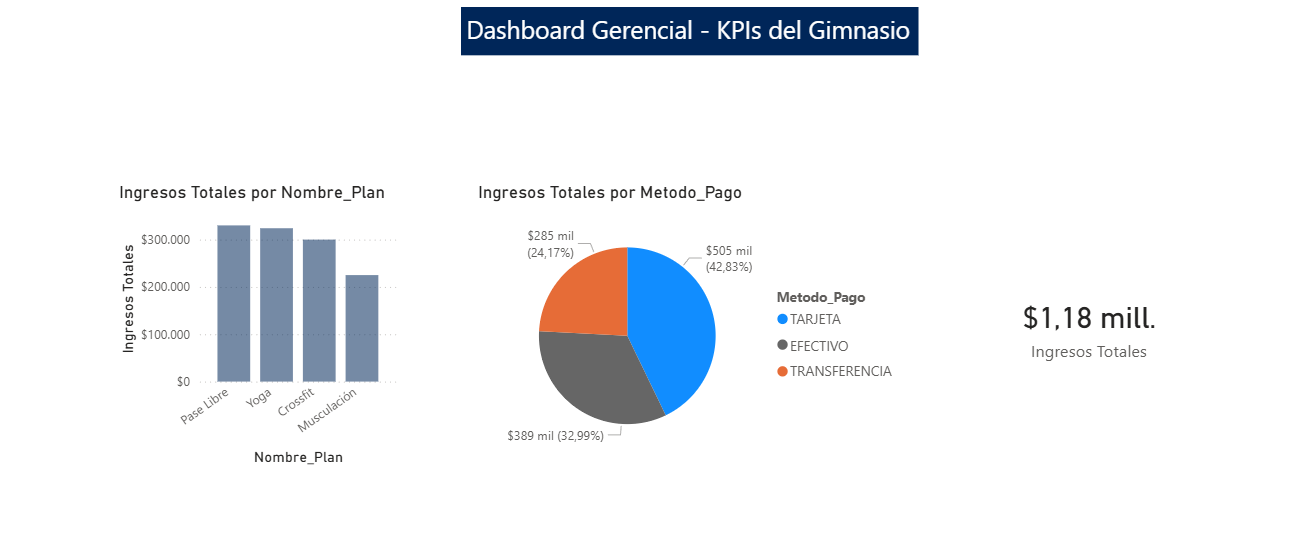

This screenshot's page, from the dashboard's own definition file:
{"tool":"powerbi","page":{"name":"Página 1","canvas":[1280,720],"ordinal":0},"visuals":[{"type":"clusteredColumnChart","fields":{"Category":["Planes.Nombre_Plan"],"Y":["Pagos.Ingresos Totales"]},"box":[129.4,186.7,280.1,280.1],"z":0},{"type":"card","fields":{"Values":["Pagos.Ingresos Totales"]},"box":[937.6,186.7,280.1,280.1],"z":1000},{"type":"pieChart","fields":{"Y":["Pagos.Ingresos Totales"],"Category":["Pagos.Metodo_Pago"]},"box":[478.5,186.7,422.1,280.1],"z":2000},{"type":"textbox","box":[466.9,16.5,445.5,46.7],"z":3000}]}

Visuals, with their boxes on the page's 1280x720 design canvas (x1, y1, x2, y2). These are canvas units, not pixel positions in the 1294x540 screenshot, which may show the page scaled, cropped or inside an application window:
clusteredColumnChart - Planes.Nombre_Plan x Pagos.Ingresos Totales: (129, 187, 410, 467)
card - Pagos.Ingresos Totales: (938, 187, 1218, 467)
pieChart - Pagos.Ingresos Totales x Pagos.Metodo_Pago: (478, 187, 901, 467)
textbox: (467, 16, 912, 63)
